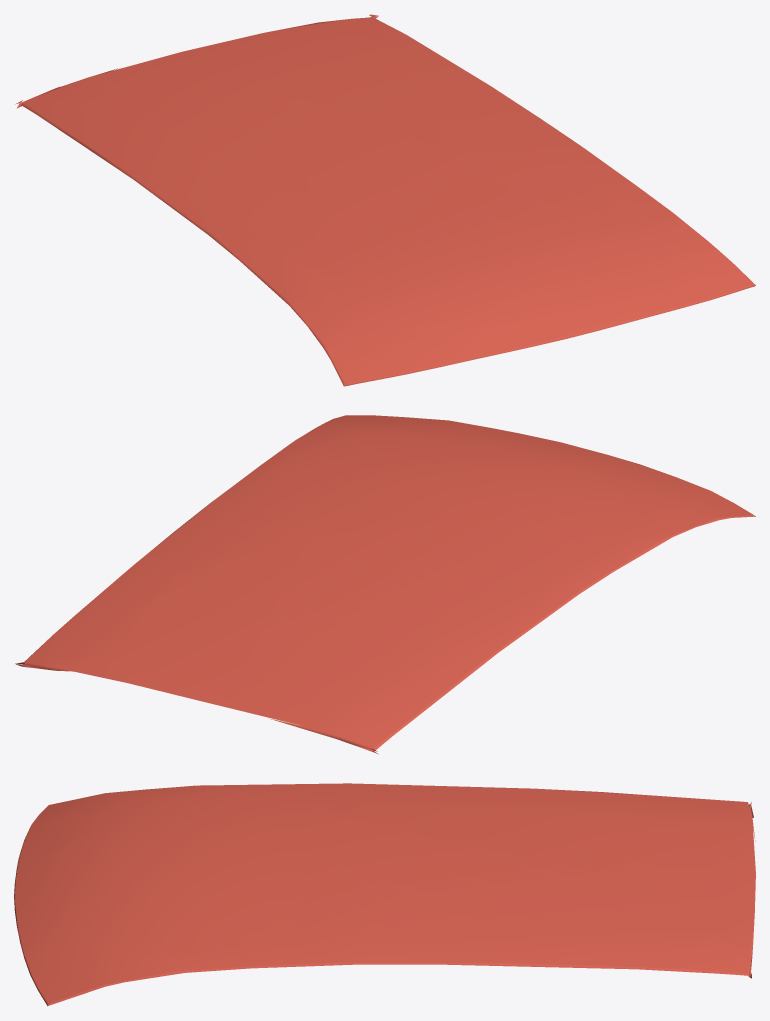
Rendered from wendtStrom_roof_sunroofDelete.glb.
The picture shows the model from 3 angles, top to bottom: view 1: azimuth 30°, elevation 25°; view 2: azimuth 150°, elevation 25°; view 3: azimuth 270°, elevation 25°; orthographic projection.
Parts seen in each view (by area): view 1: roof_sunroofDelete; view 2: roof_sunroofDelete; view 3: roof_sunroofDelete.
Boxes of the visible parts, x1,y1,x2,y2 form: roof_sunroofDelete: [15, 14, 755, 386]; roof_sunroofDelete: [15, 415, 755, 754]; roof_sunroofDelete: [14, 783, 755, 1005].
Bounding box in the file's own units: 1.13 × 0.1152 × 1.77.
